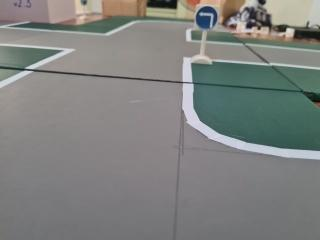left: (194, 3, 221, 32)
